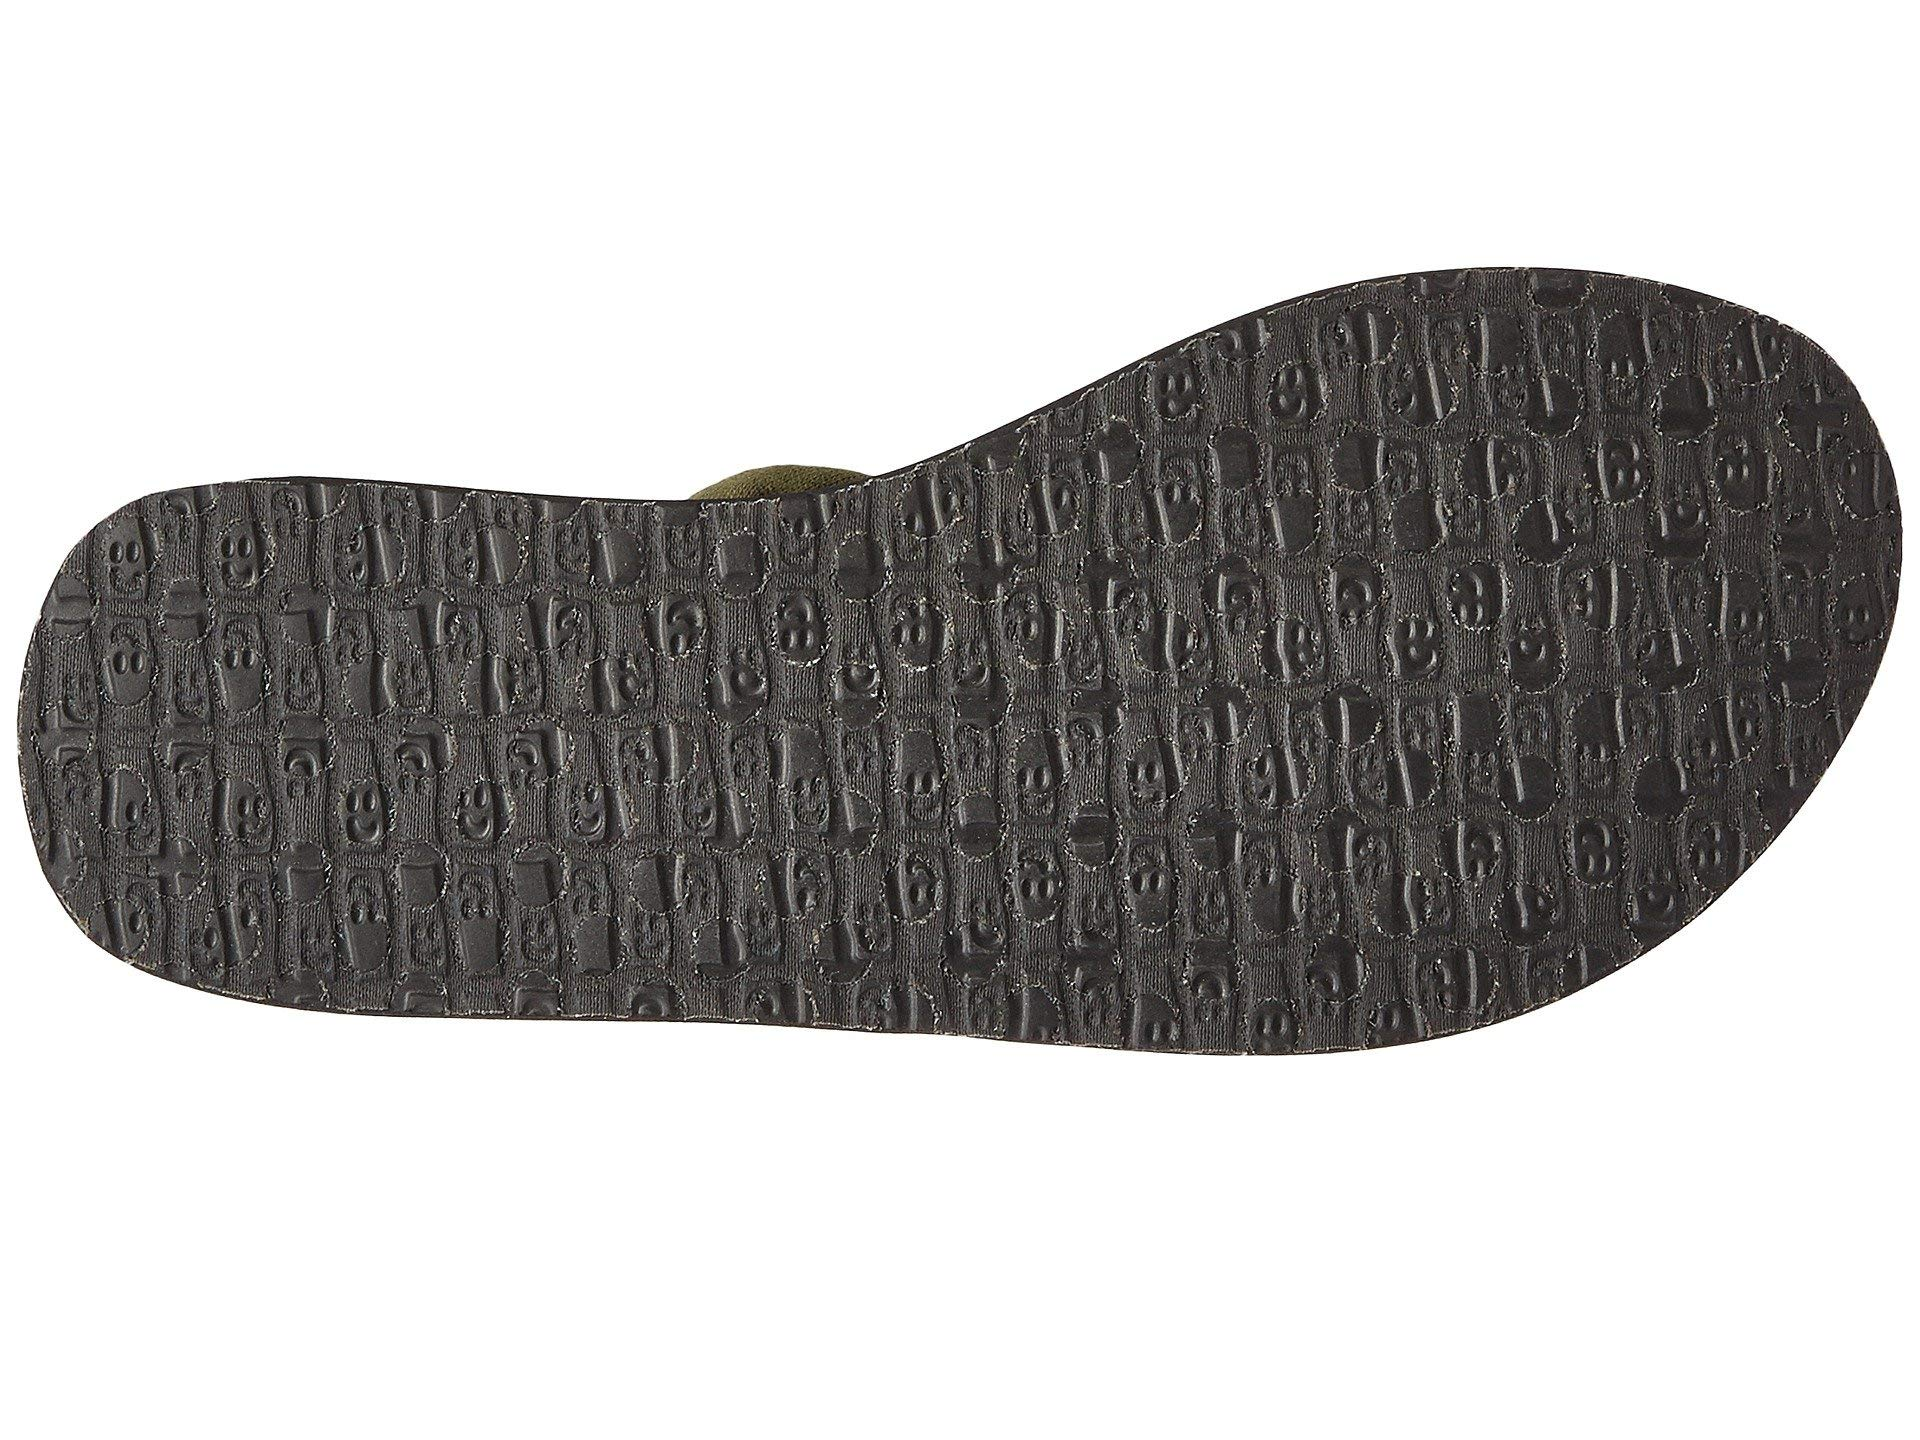circle: (70, 567, 1683, 948), (1022, 422, 1841, 548), (1212, 309, 1844, 411)
quad: (70, 567, 1683, 948), (1022, 422, 1841, 548), (1212, 309, 1844, 411)
